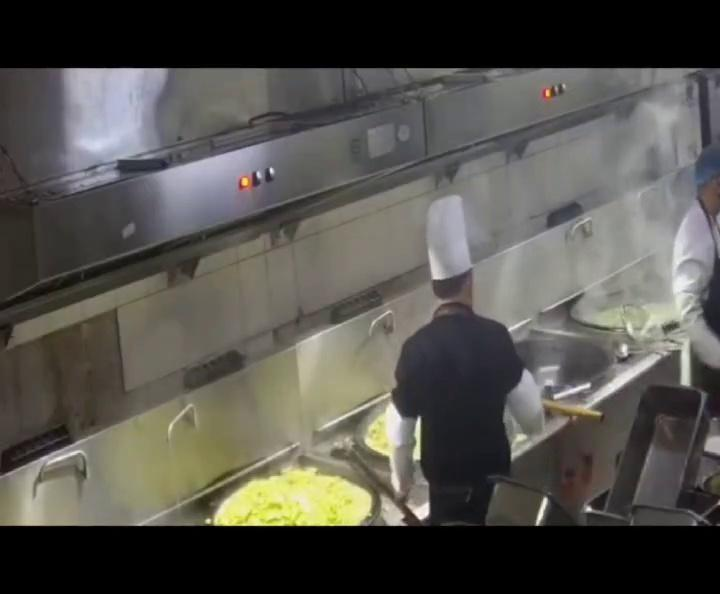gloves: (688, 139, 720, 190)
